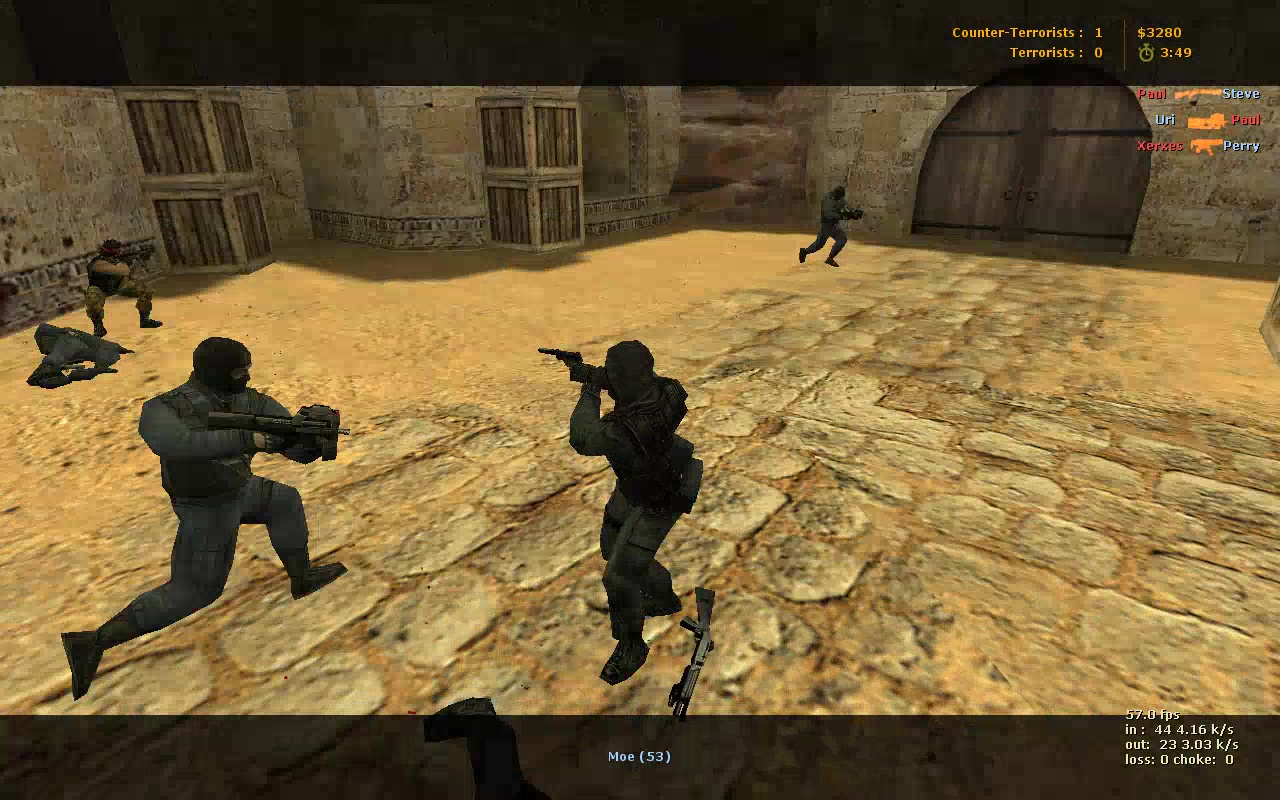ct: (61, 337, 348, 699), (542, 340, 708, 691), (798, 185, 862, 265)
terr1: (80, 237, 169, 331)
